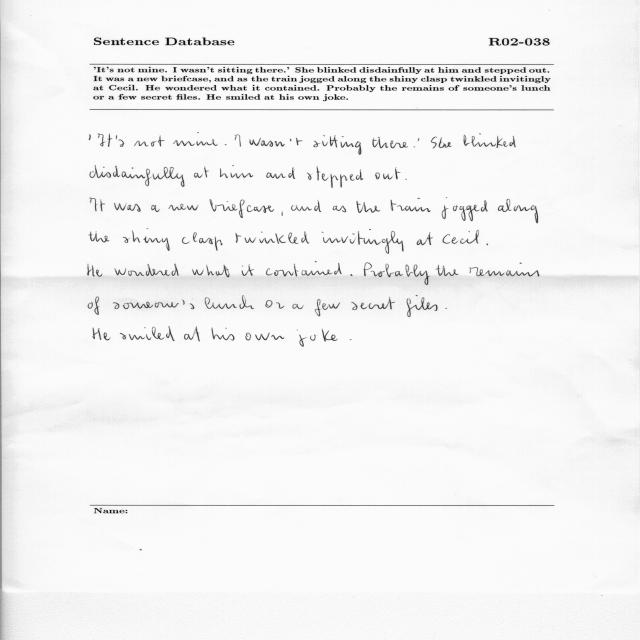word: (90, 165, 184, 187), (322, 229, 404, 254), (364, 262, 430, 285), (210, 199, 274, 218), (307, 167, 363, 188), (266, 262, 341, 277), (123, 228, 170, 251), (442, 198, 488, 221), (470, 263, 540, 277), (236, 231, 310, 244), (314, 135, 362, 155), (498, 199, 538, 223), (113, 300, 194, 310), (463, 133, 516, 148), (114, 264, 179, 276), (120, 327, 175, 341), (182, 233, 223, 251), (205, 295, 254, 309), (407, 295, 438, 317), (173, 132, 217, 146), (352, 297, 396, 310), (391, 198, 431, 212), (442, 230, 479, 244), (250, 138, 303, 147), (193, 265, 230, 277), (220, 166, 253, 179), (315, 299, 340, 316), (373, 137, 408, 148), (291, 200, 321, 212), (266, 167, 295, 179), (134, 136, 165, 147), (297, 330, 316, 347), (375, 168, 401, 180), (246, 333, 285, 341), (212, 328, 235, 341), (357, 201, 381, 213), (436, 265, 459, 276), (114, 203, 141, 212), (89, 231, 109, 243), (184, 327, 200, 342), (431, 137, 452, 148), (90, 198, 105, 212), (169, 204, 199, 211), (88, 296, 99, 315), (417, 232, 433, 245), (93, 328, 110, 340), (98, 133, 112, 147), (88, 264, 103, 277), (322, 329, 337, 342), (265, 300, 284, 309), (194, 167, 209, 178), (242, 264, 254, 276), (116, 135, 125, 147), (333, 206, 346, 213), (235, 135, 241, 147), (151, 205, 160, 212), (293, 304, 304, 309), (89, 135, 91, 140), (282, 211, 283, 216), (487, 244, 489, 246), (351, 274, 353, 276), (418, 139, 419, 142), (225, 144, 227, 145), (405, 179, 407, 180), (445, 308, 447, 309), (414, 147, 415, 148)
